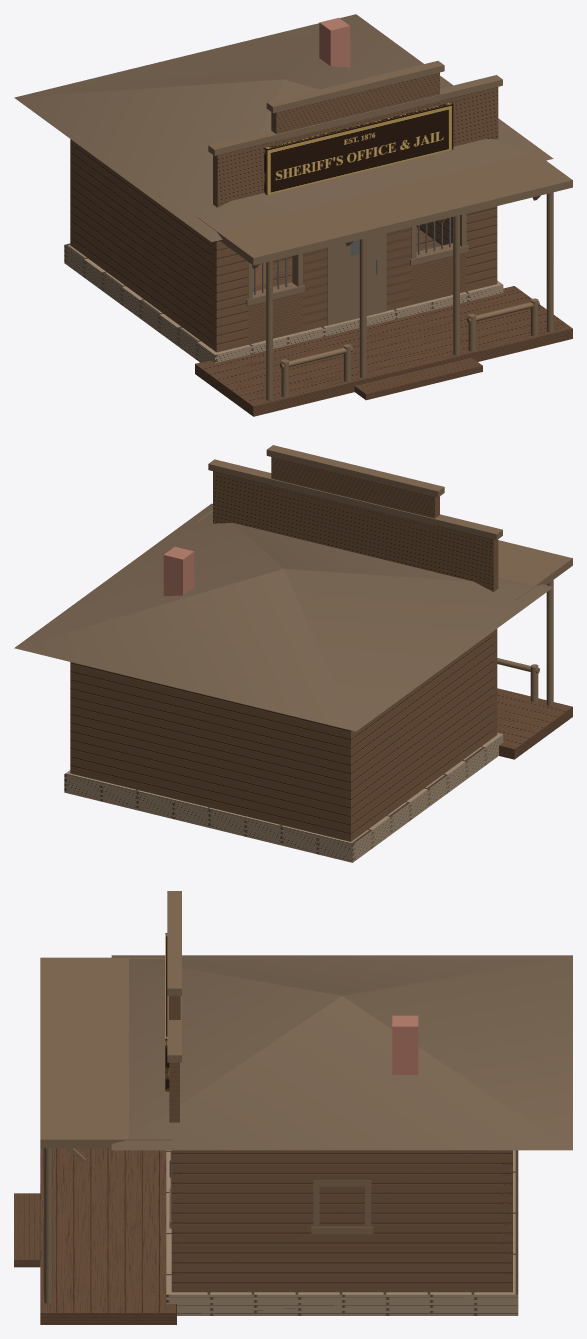
Rendered from Wild_West_Sheriff_Office_And_Jail.gltf.
3 views of the same model, one above another, from view 1: azimuth 30°, elevation 25°; view 2: azimuth 150°, elevation 25°; view 3: azimuth 270°, elevation 25° (orthographic). The views are drawn at different scales.
Bounding box in the file's own units: 8.78 × 6.18 × 10.64.
Materials: 11 (5 with a texture image).
